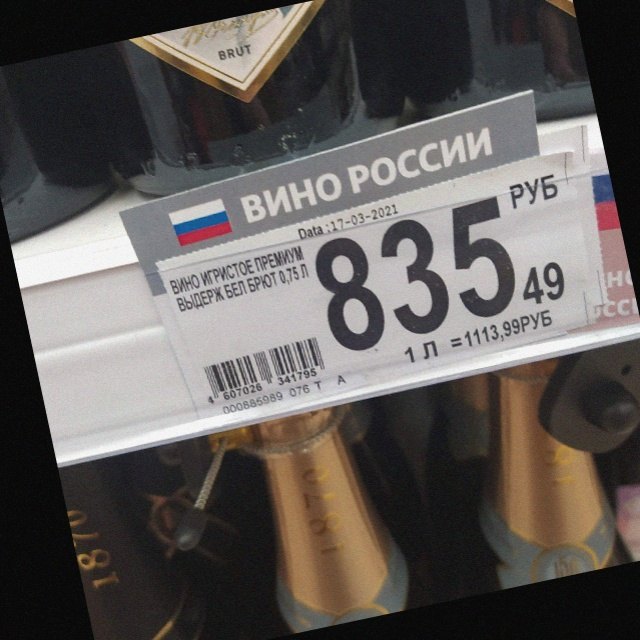barcode: (201, 335, 330, 405)
name: (169, 243, 313, 316)
price: (312, 192, 566, 354)
price_tag: (159, 150, 578, 422)
